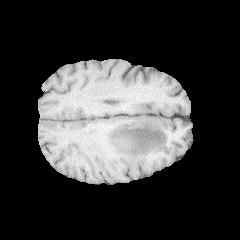glioma: (99, 118, 171, 167)
